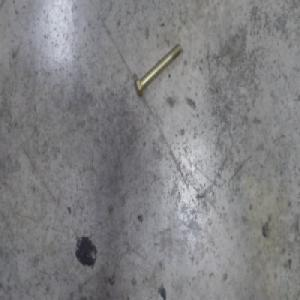Bolt: (132, 42, 182, 97)
